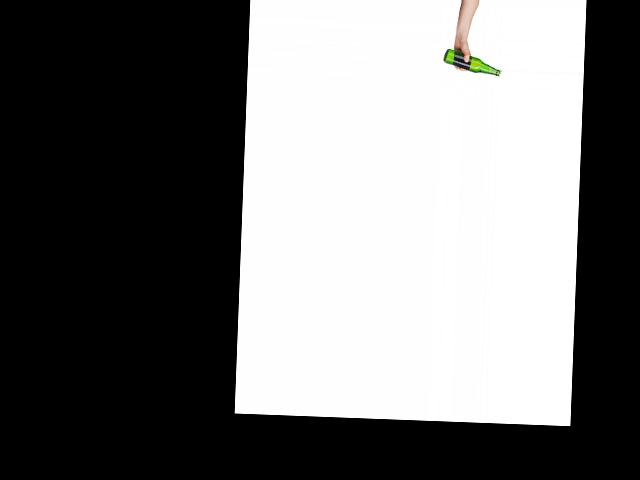beer: (442, 48, 502, 76)
